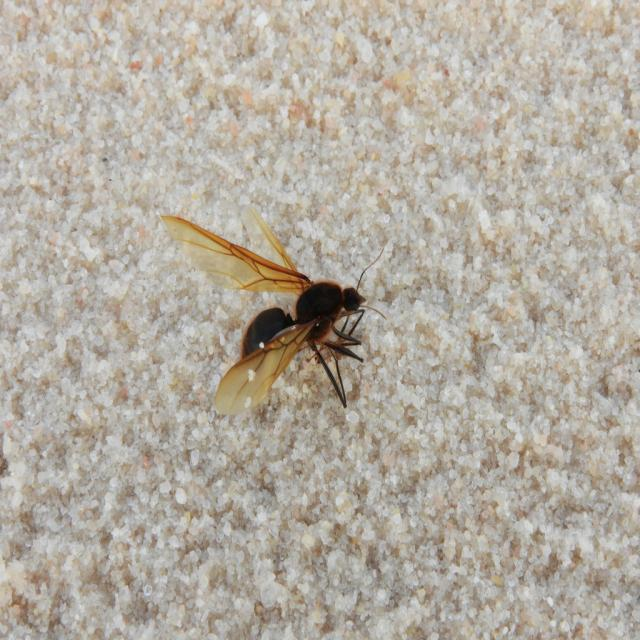Dead-Male-Alate: (160, 205, 387, 418)
